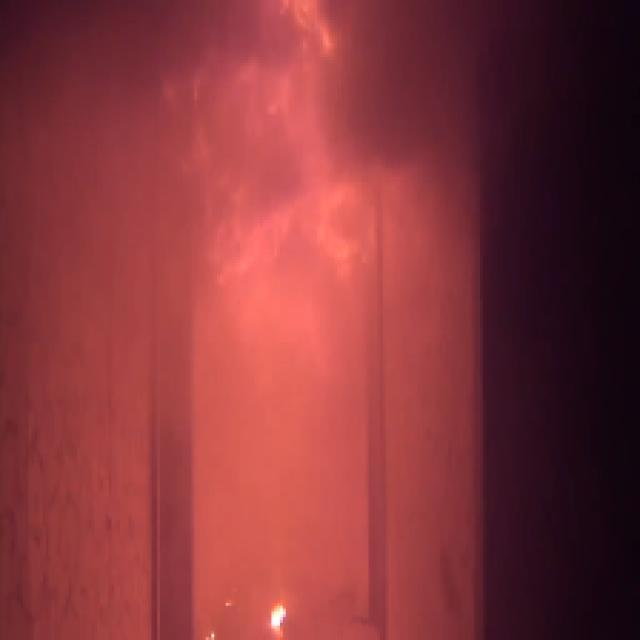Fire: (280, 2, 352, 268), (266, 600, 292, 632)
Smoke: (52, 2, 255, 272), (374, 11, 462, 243)
